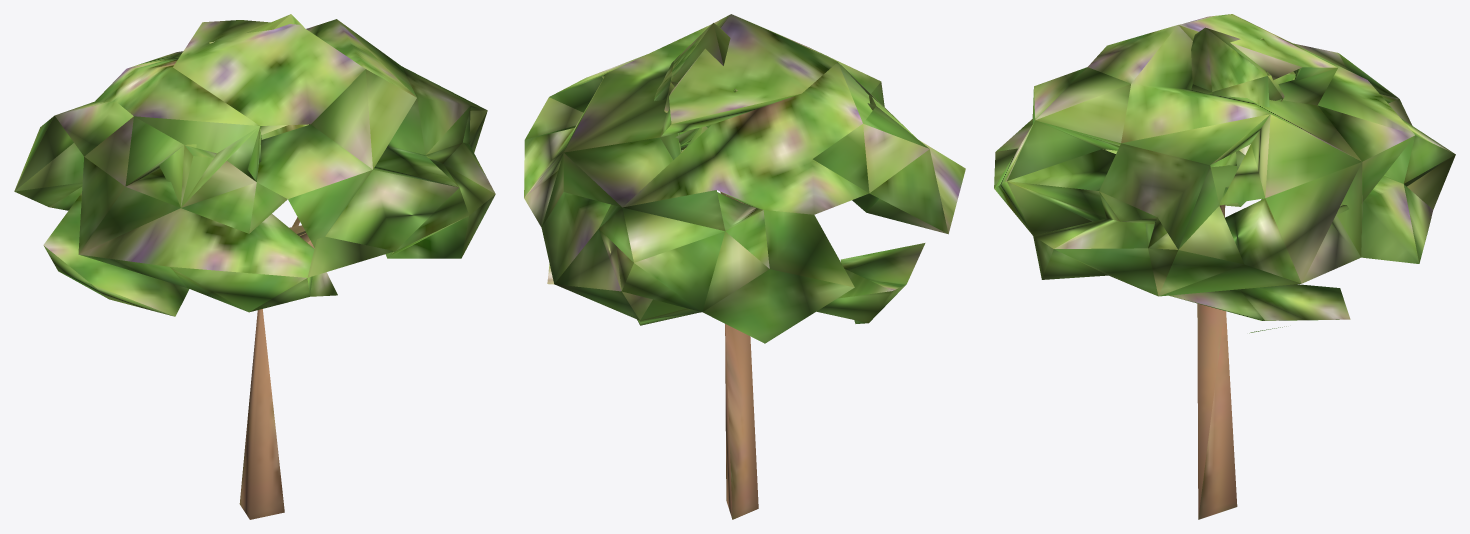
Rendered from tree_round_a_far.glb.
The picture shows the model from 3 angles, left to right: view 1: azimuth 30°, elevation 25°; view 2: azimuth 150°, elevation 25°; view 3: azimuth 270°, elevation 25°; orthographic projection. The views are drawn at different scales.
Visible parts, largest first — view 1: body; view 2: body; view 3: body.
Part boxes in pixels (<box>): body: <box>14,14,495,519</box>; body: <box>524,14,965,519</box>; body: <box>994,14,1455,519</box>.
Bounding box in the file's own units: 4.76 × 5.47 × 4.6.
2 materials, 2 textured.
